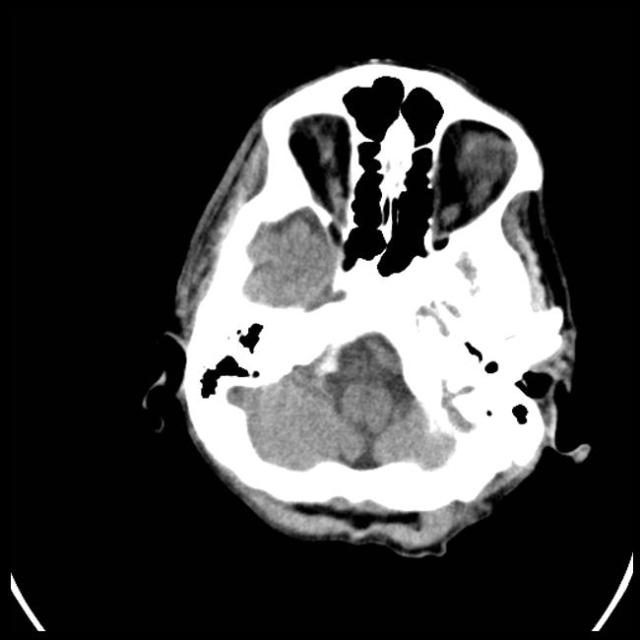lesion: (152, 57, 592, 558)
